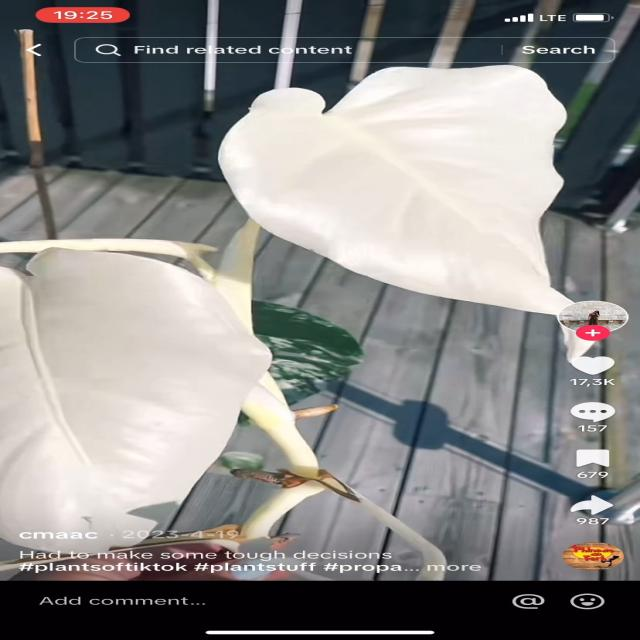lisc_variegata: (216, 60, 595, 323), (0, 248, 274, 557), (251, 298, 363, 408)
roslina_variegata: (0, 63, 578, 581)
